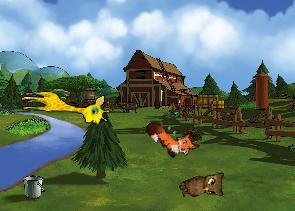fox: (142, 106, 203, 167)
giraffe: (19, 90, 110, 125)
owl: (177, 167, 230, 209)
